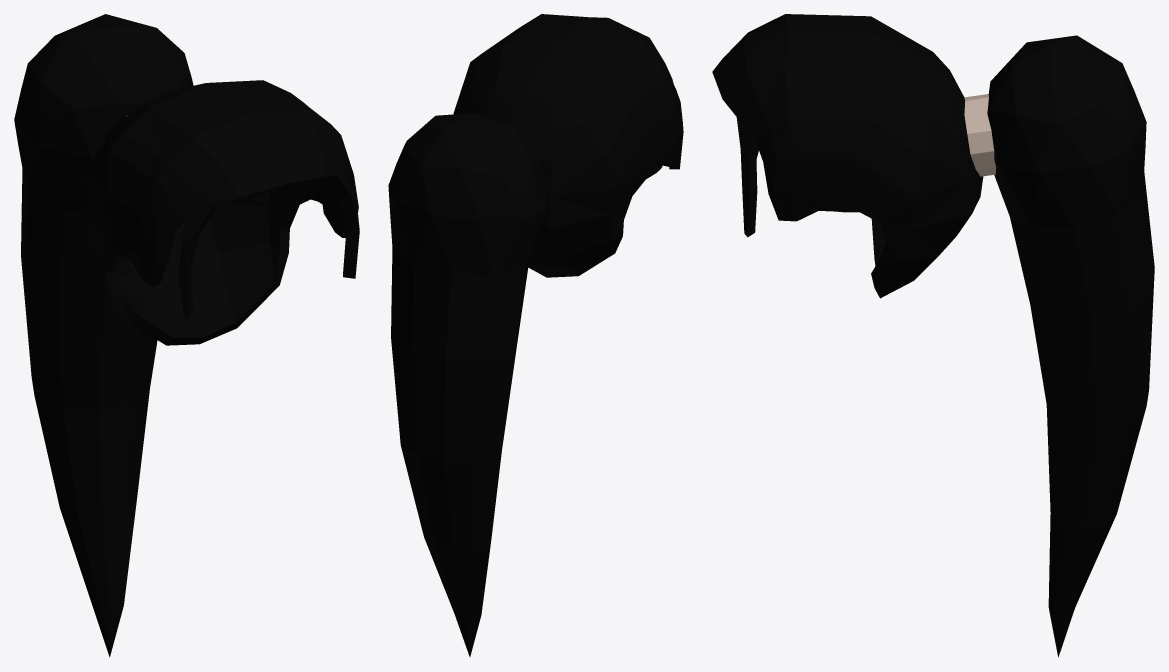
Rendered from Hair long 5.fbx.
3 views of the same model, side by side, from view 1: azimuth 30°, elevation 25°; view 2: azimuth 150°, elevation 25°; view 3: azimuth 270°, elevation 25° (orthographic). The views are drawn at different scales.
Visible parts, largest first — view 1: Hair short W 2; view 2: Hair short W 2; view 3: Hair short W 2.
Boxes of the visible parts, x1,y1,x2,y2 form: Hair short W 2: (14,14,359,657); Hair short W 2: (388,14,683,656); Hair short W 2: (712,14,1154,657).
Size of the model in its own units: 0.1623 by 0.4599 by 0.294.
